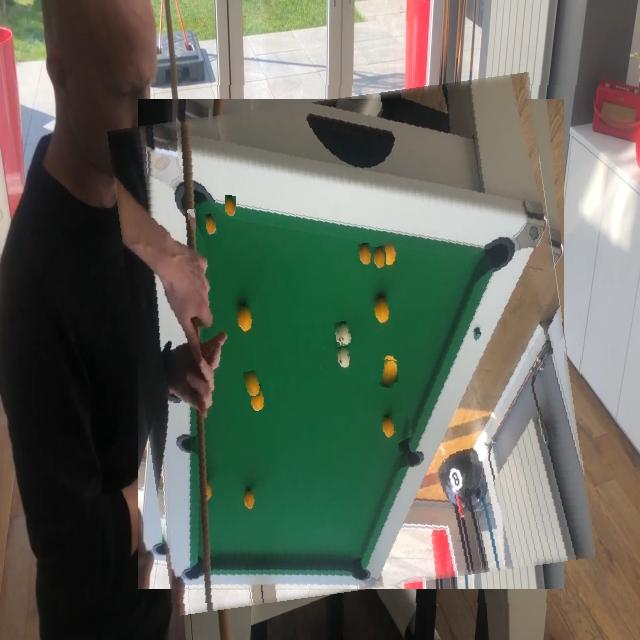Ball: (381, 360, 398, 388), (245, 371, 260, 398), (395, 416, 412, 439), (338, 321, 352, 345), (373, 246, 386, 269), (226, 195, 236, 216), (189, 209, 196, 229)
Billiard table: (124, 85, 582, 603)
